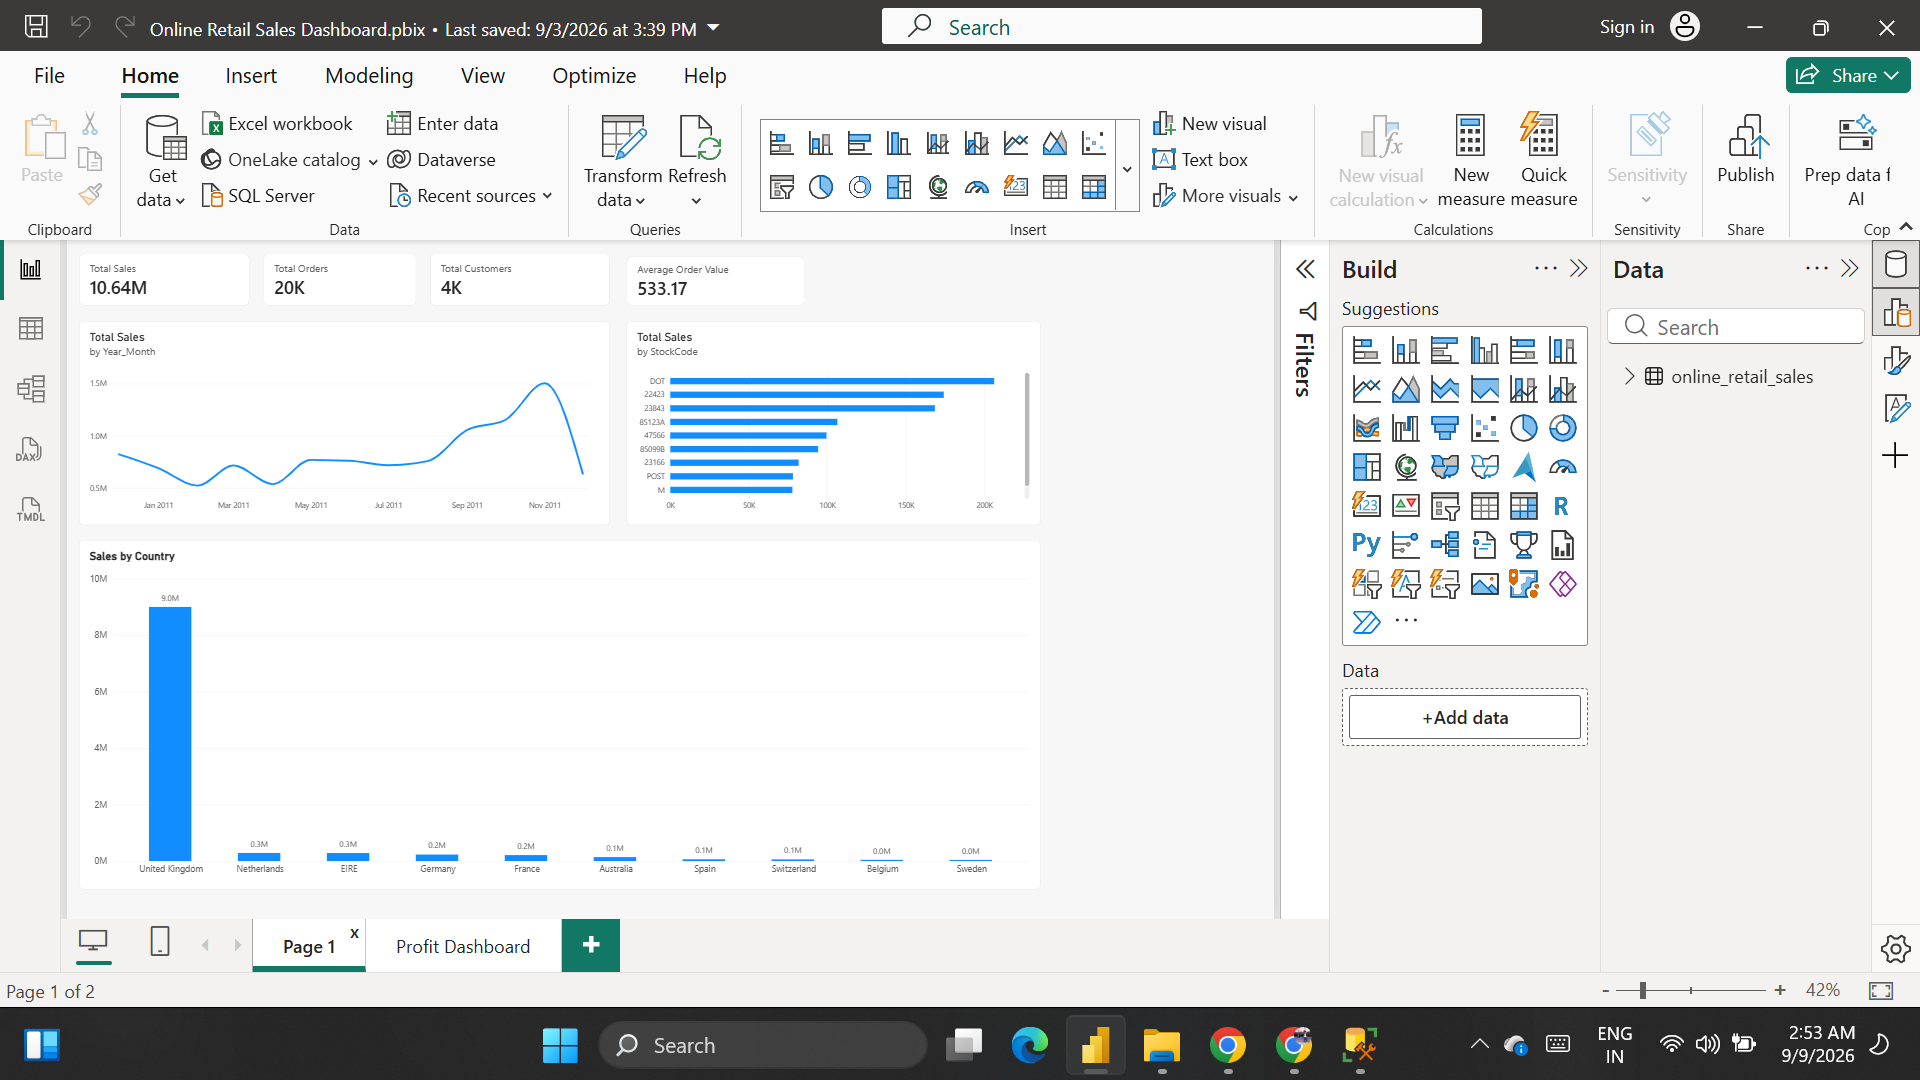

Layout of this report page (visuals, bound fields, positions):
{"tool":"powerbi","page":{"name":"Page 1","canvas":[1920,1080],"ordinal":0},"visuals":[{"type":"cardVisual","fields":{"Data":["online_retail_sales.Total Sales"]},"box":[19.1,21.5,272,83.5],"z":0},{"type":"cardVisual","fields":{"Data":["online_retail_sales.Total Orders"]},"box":[312.6,21.5,243.4,83.5],"z":1000},{"type":"cardVisual","fields":{"Data":["online_retail_sales.Total Customers"]},"box":[577.4,21.5,286.3,83.5],"z":2000},{"type":"cardVisual","fields":{"Data":["online_retail_sales.Average Order Value"]},"box":[889.9,26.2,283.9,78.7],"z":3000},{"type":"lineChart","fields":{"Category":["online_retail_sales.Year_Month.Variation.Date Hierarchy.Year"],"Y":["online_retail_sales.Total Sales"]},"box":[19.1,128.8,844.6,324.5],"z":4000},{"type":"clusteredColumnChart","title":"Sales by Country","fields":{"Category":["online_retail_sales.Country"],"Y":["online_retail_sales.Total Sales"]},"box":[19.1,477.2,1529.4,555.9],"z":5000},{"type":"clusteredBarChart","fields":{"Category":["online_retail_sales.StockCode"],"Y":["online_retail_sales.Total Sales"]},"box":[889.9,128.8,658.5,324.5],"z":6000}]}

Visuals, with their boxes on the page's 1920x1080 design canvas (x1, y1, x2, y2). These are canvas units, not pixel positions in the 1920x1080 screenshot, which may show the page scaled, cropped or inside an application window:
cardVisual - online_retail_sales.Total Sales: [19, 22, 291, 105]
cardVisual - online_retail_sales.Total Orders: [313, 22, 556, 105]
cardVisual - online_retail_sales.Total Customers: [577, 22, 864, 105]
cardVisual - online_retail_sales.Average Order Value: [890, 26, 1174, 105]
lineChart - online_retail_sales.Year_Month.Variation.Date Hierarchy.Year x online_retail_sales.Total Sales: [19, 129, 864, 453]
"Sales by Country" clusteredColumnChart: [19, 477, 1548, 1033]
clusteredBarChart - online_retail_sales.StockCode x online_retail_sales.Total Sales: [890, 129, 1548, 453]
